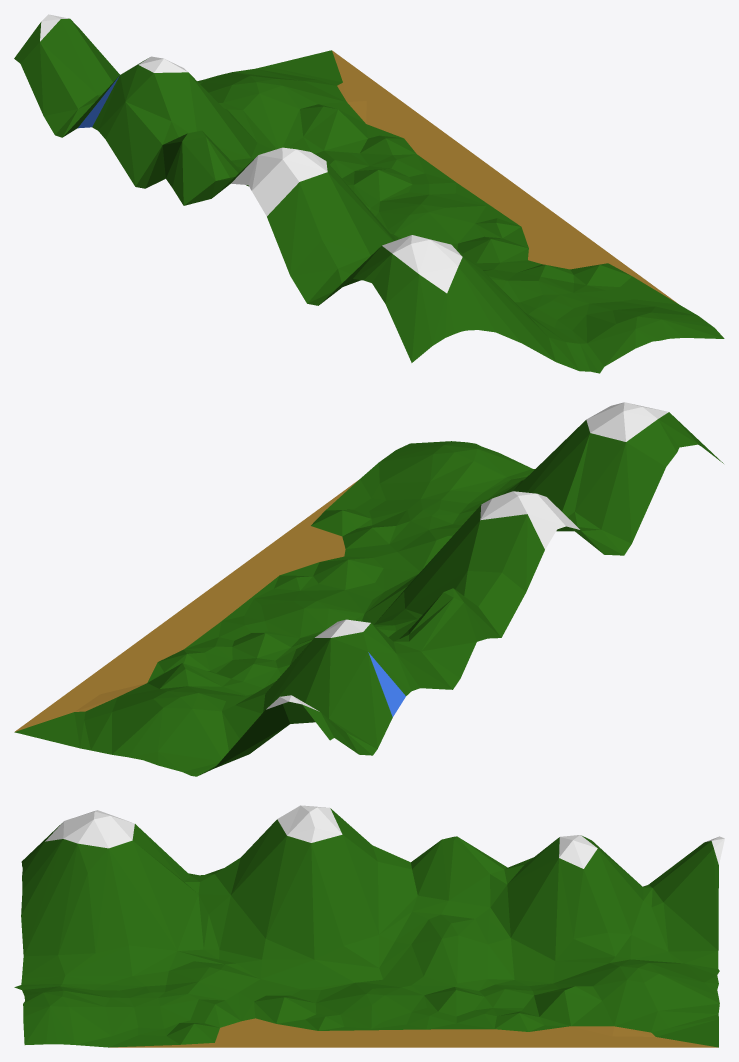
File: Mountain03.fbx
The picture shows the model from 3 angles, top to bottom: view 1: azimuth 30°, elevation 25°; view 2: azimuth 150°, elevation 25°; view 3: azimuth 270°, elevation 25°; orthographic projection. The views are drawn at different scales.
Visible parts, largest first — view 1: Ground01; view 2: Ground01; view 3: Ground01.
Part boxes in pixels (x1,y1,x2,y2): Ground01: [14, 14, 724, 373]; Ground01: [14, 402, 723, 776]; Ground01: [14, 805, 724, 1047].
Bounding box in the file's own units: 60.32 × 24.95 × 133.
